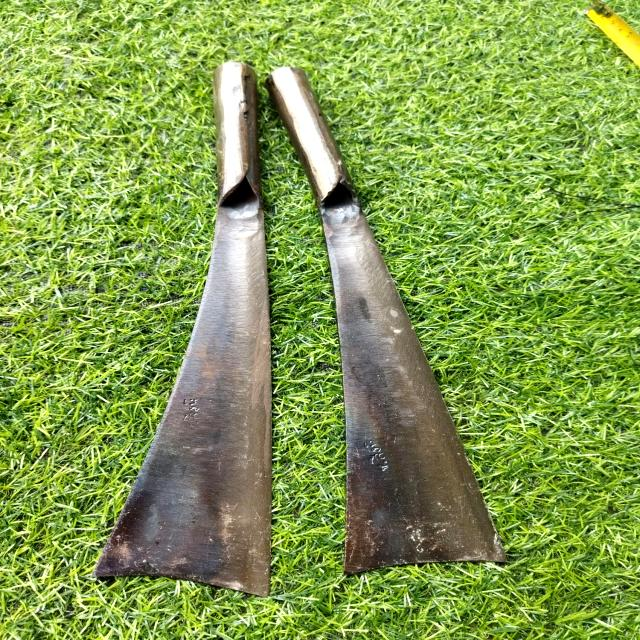eto: (92, 56, 277, 601)
